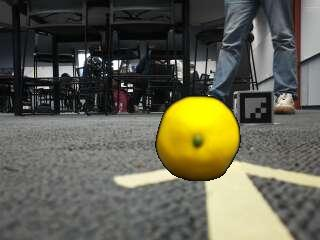lemon: (158, 96, 240, 180)
